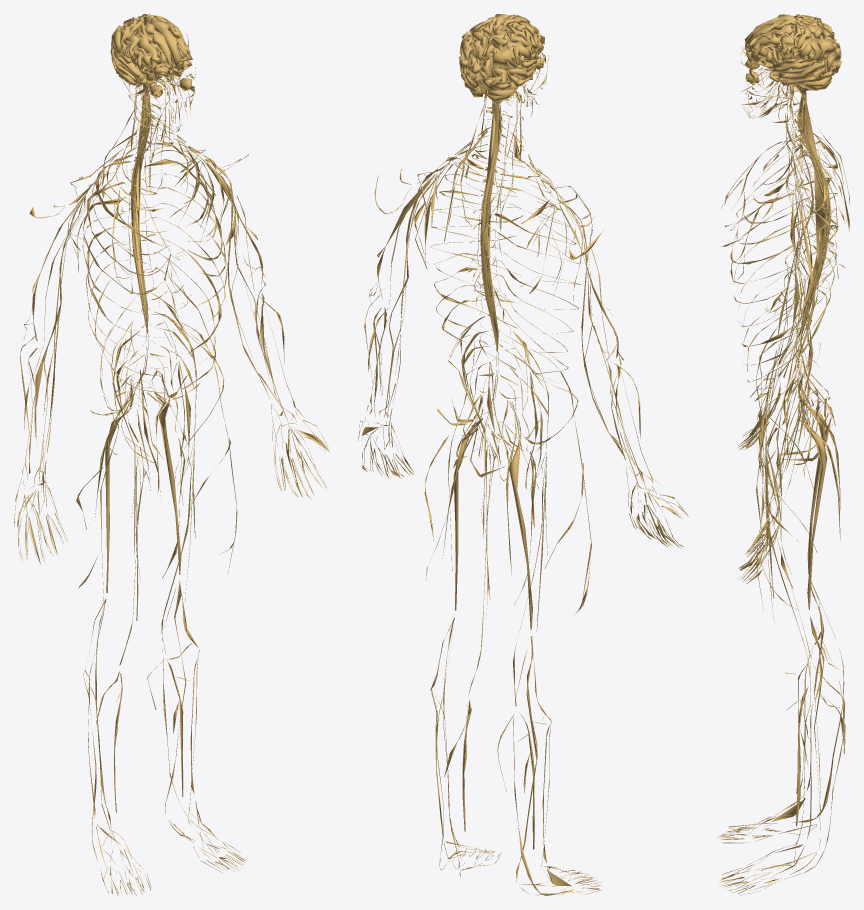
Rendered from nervous.glb.
3 views of the same model, side by side, from view 1: azimuth 30°, elevation 25°; view 2: azimuth 150°, elevation 25°; view 3: azimuth 270°, elevation 25° (orthographic). The views are drawn at different scales.
Visible parts, largest first — view 1: nervous; view 2: nervous; view 3: nervous.
Part boxes in pixels (x1,y1,x2,y2): nervous: (14, 14, 329, 895); nervous: (358, 14, 688, 895); nervous: (717, 14, 849, 895).
Size of the model in its own units: 0.6662 by 1.69 by 0.2403.
